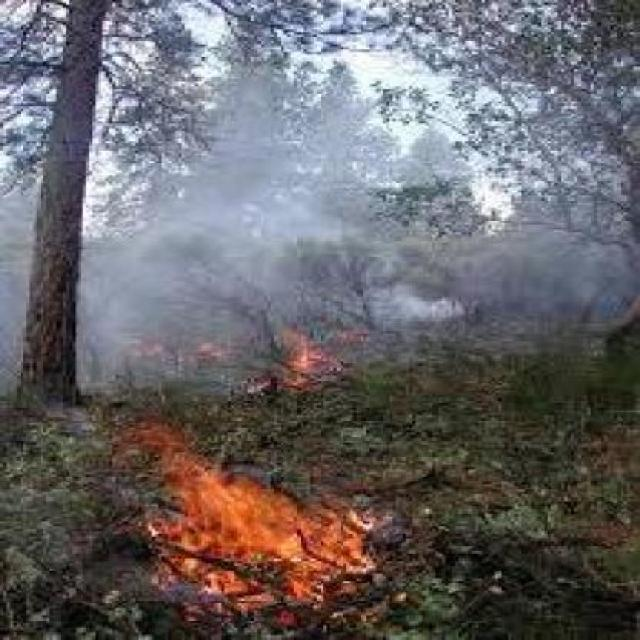Fire: (97, 407, 403, 640), (184, 312, 383, 408)
Smoke: (0, 53, 640, 430)
